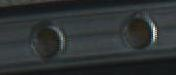joints: (120, 11, 158, 51), (28, 19, 65, 60)
